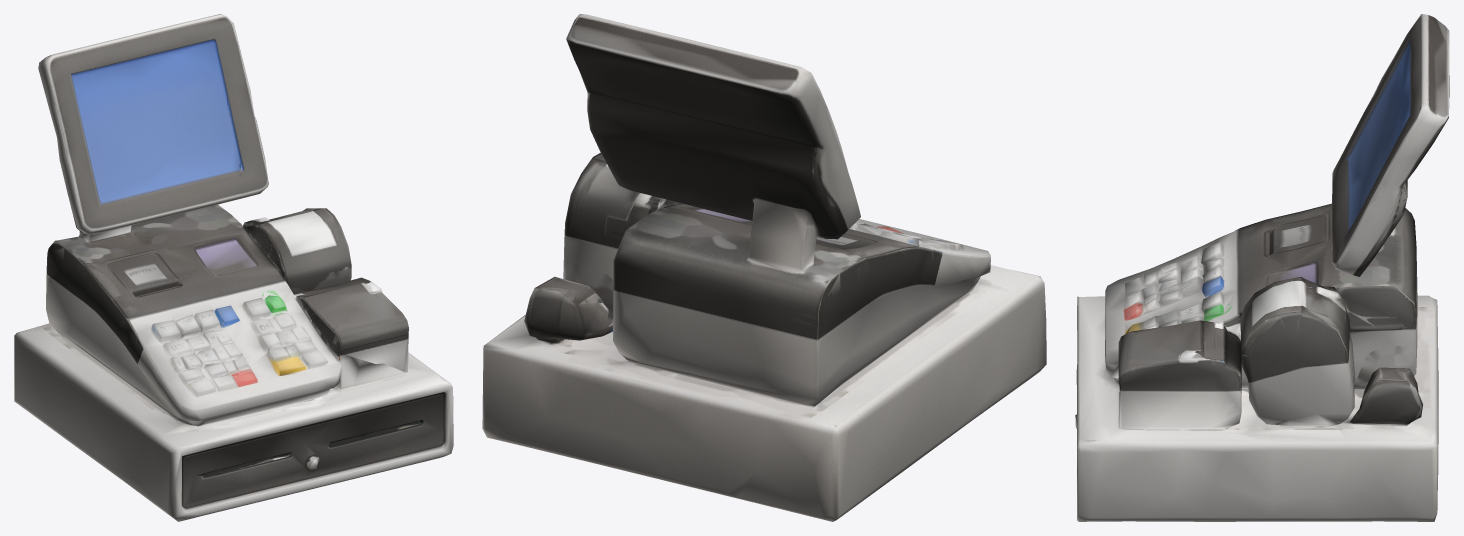
The model's file is POS.fbx.
3 renders of one model, left to right at view 1: azimuth 30°, elevation 25°; view 2: azimuth 150°, elevation 25°; view 3: azimuth 270°, elevation 25°, orthographic. The views are drawn at different scales.
Visible parts, largest first — view 1: material_0; view 2: material_0; view 3: material_0.
Boxes of the visible parts, x1,y1,x2,y2 form: material_0: (14,14,453,521); material_0: (482,14,1046,521); material_0: (1075,14,1449,521).
Bounding box in the file's own units: 84.81 × 100 × 89.1.
Materials: 1 (1 with a texture image).
